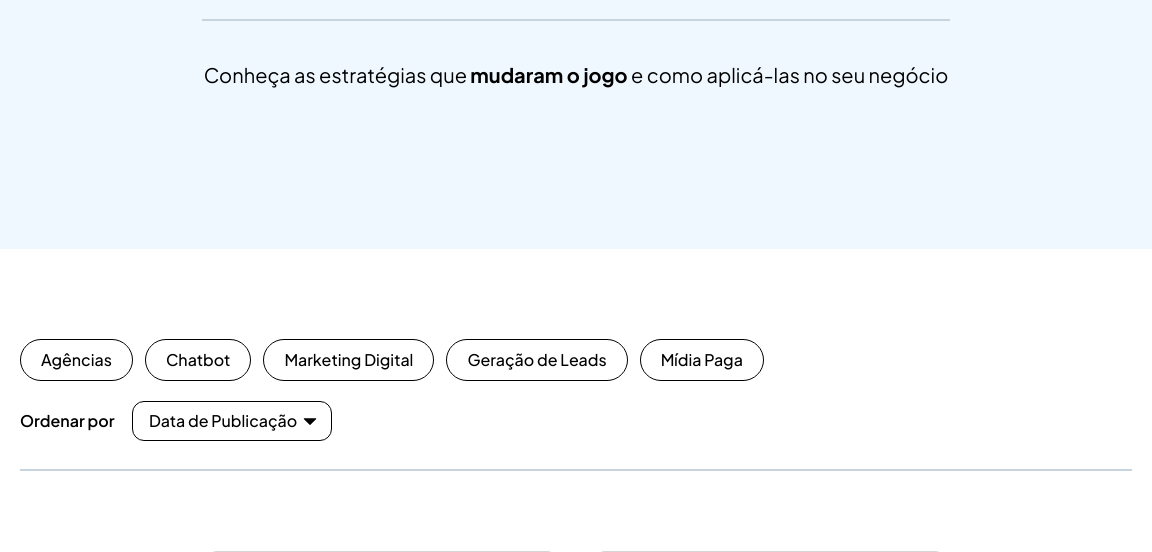
Scenario: Tests the hero section › Checks that after clicking on the 'Chatbot' category, there are only 6 cards rendered on the screen
This screenshot has width=1152, height=552.
(page scrolled)
Click the button with test id "category-button" showing "Chatbot". click: (199, 360)
box: [145,339,252,381]
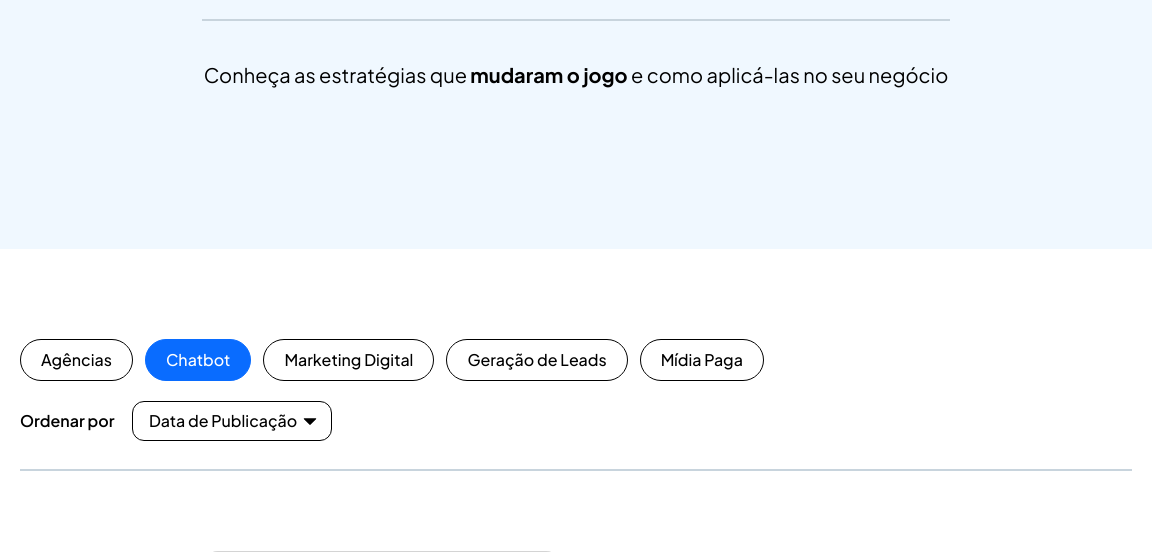
Check: the number of elements with test id "card" is 6
